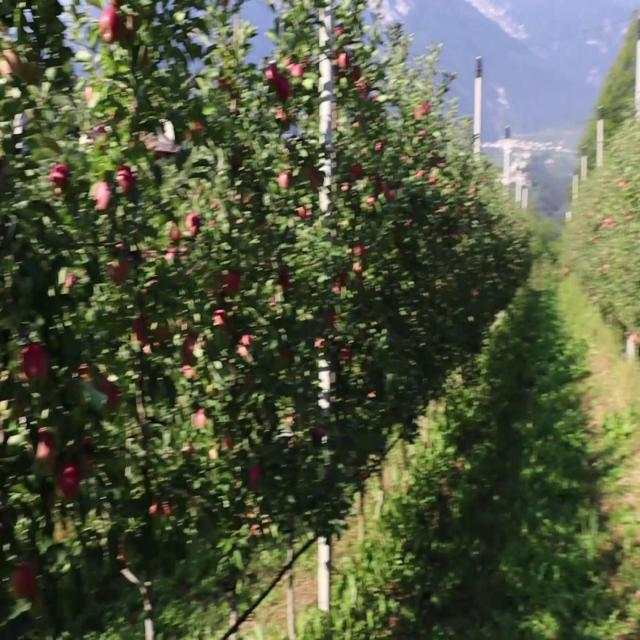apple: (12, 561, 38, 603), (56, 462, 81, 505), (108, 241, 131, 286), (36, 433, 58, 475), (24, 348, 51, 382), (100, 7, 122, 44), (92, 177, 112, 213), (116, 170, 136, 197), (4, 49, 20, 80), (132, 319, 148, 348), (184, 334, 197, 364), (92, 127, 109, 148), (188, 213, 202, 238), (208, 199, 220, 228), (268, 63, 280, 91), (96, 376, 111, 396), (228, 270, 241, 293), (108, 391, 121, 414), (280, 78, 292, 101), (280, 270, 292, 292), (164, 248, 177, 267), (280, 170, 291, 192), (308, 170, 320, 190), (292, 63, 304, 80), (252, 469, 262, 489), (340, 270, 348, 284)
